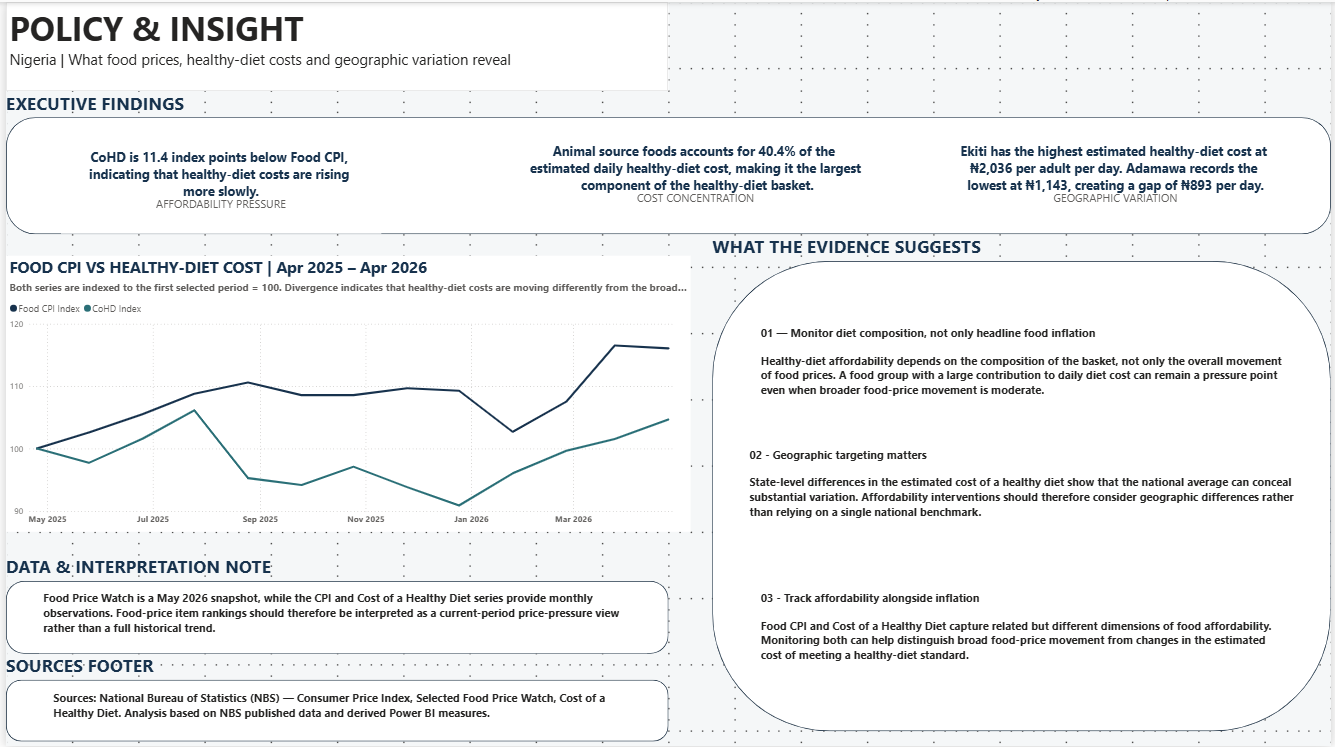

This screenshot's page, from the dashboard's own definition file:
{"tool":"powerbi","page":{"name":"POLICY & INSIGHT","canvas":[1920,1080],"ordinal":4},"visuals":[{"type":"shape","title":"DATA & INTERPRETATION NOTE","box":[0,800,960,144],"z":0},{"type":"textbox","box":[0,0,960,128],"z":1000},{"type":"shape","title":"EXECUTIVE FINDINGS","box":[0,128,1920,208],"z":2000},{"type":"card","fields":{"Values":["KPI.Geographic Affordability Insight"]},"box":[1344,176,528,144],"z":3000},{"type":"card","fields":{"Values":["KPI.Top Food Group Insight"]},"box":[736,176,528,144],"z":4000},{"type":"lineChart","fields":{"Category":["Dim_Date.Date"],"Y":["KPI.Food CPI Index","KPI.CoHD Index"]},"box":[0,368,992,400],"z":5000},{"type":"shape","title":"WHAT THE EVIDENCE SUGGESTS","box":[1024,336,896,720],"z":6000},{"type":"card","fields":{"Values":["KPI.Affordability Signal Text"]},"box":[80,176,464,160],"z":7000},{"type":"textbox","box":[48,848,880,96],"z":8000},{"type":"textbox","box":[1088,848,768,160],"z":9000},{"type":"textbox","box":[1088,464,784,160],"z":10000},{"type":"shape","title":"SOURCES FOOTER","box":[0,944,960,128],"z":11000},{"type":"textbox","box":[64,992,864,64],"z":12000},{"type":"textbox","box":[1072,640,832,144],"z":13000}]}

Visuals, with their boxes in screenshot pixels (x1, y1, x2, y2), scaled from the page's 1920x1080 canvas onto the 1335x747 screenshot:
"DATA & INTERPRETATION NOTE" shape: 0/553/668/653
textbox: 0/0/668/89
"EXECUTIVE FINDINGS" shape: 0/89/1334/232
card - KPI.Geographic Affordability Insight: 934/122/1302/221
card - KPI.Top Food Group Insight: 512/122/879/221
lineChart - Dim_Date.Date x KPI.Food CPI Index: 0/255/690/531
"WHAT THE EVIDENCE SUGGESTS" shape: 712/232/1334/730
card - KPI.Affordability Signal Text: 56/122/378/232
textbox: 33/587/645/653
textbox: 756/587/1290/697
textbox: 756/321/1302/432
"SOURCES FOOTER" shape: 0/653/668/741
textbox: 44/686/645/730
textbox: 745/443/1324/542
